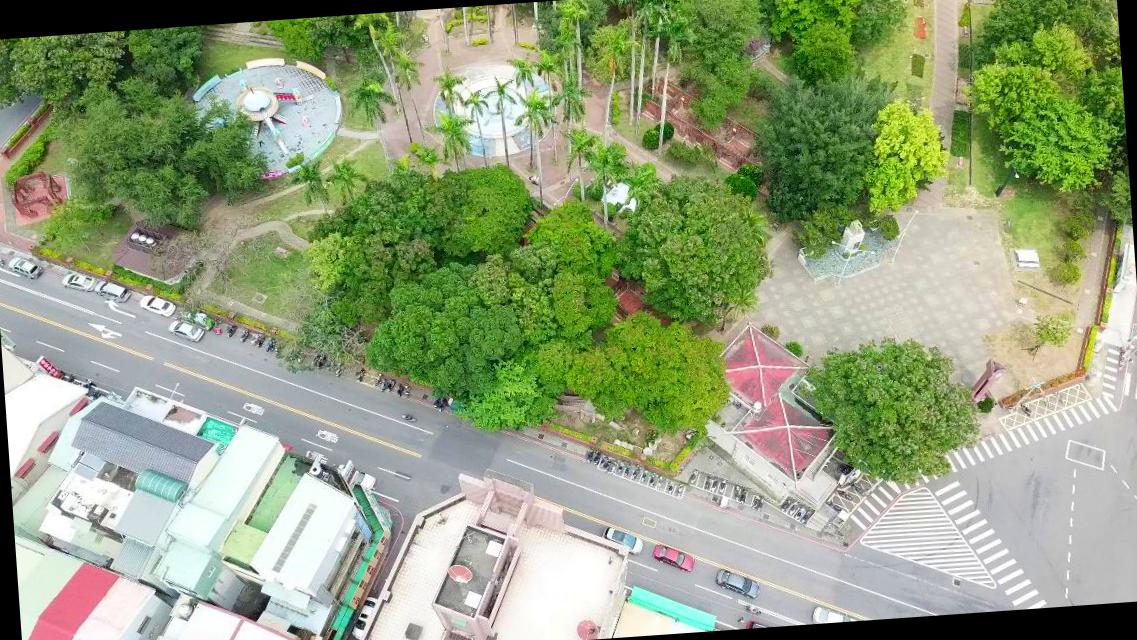vehicle: (714, 566, 759, 600), (346, 593, 380, 638), (651, 541, 695, 574), (600, 524, 642, 558), (336, 460, 376, 490), (810, 602, 861, 624), (93, 277, 132, 304), (137, 292, 176, 319), (167, 318, 205, 344), (7, 255, 42, 280), (60, 271, 97, 293), (745, 616, 768, 628)
